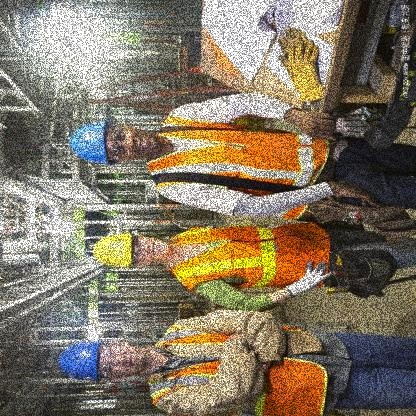blue: (64, 115, 120, 169), (54, 331, 107, 386)
vest: (144, 101, 334, 223), (142, 304, 334, 414), (163, 211, 334, 295)
yellow: (90, 230, 140, 272)
